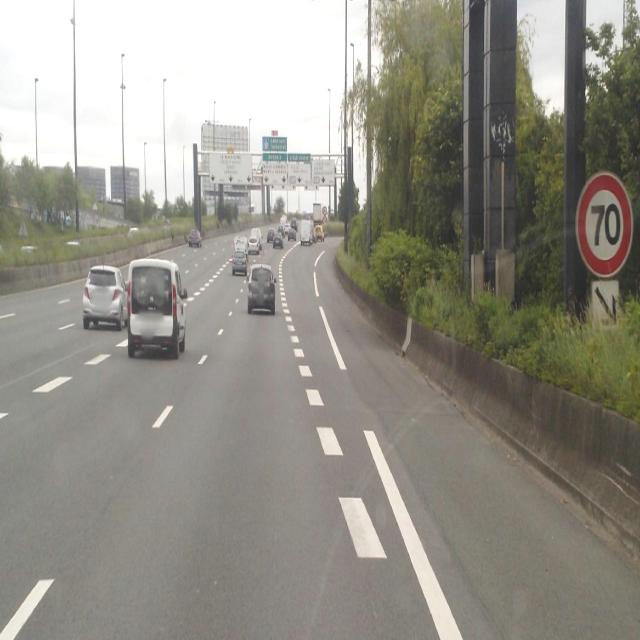speed_70: (579, 174, 631, 275)
